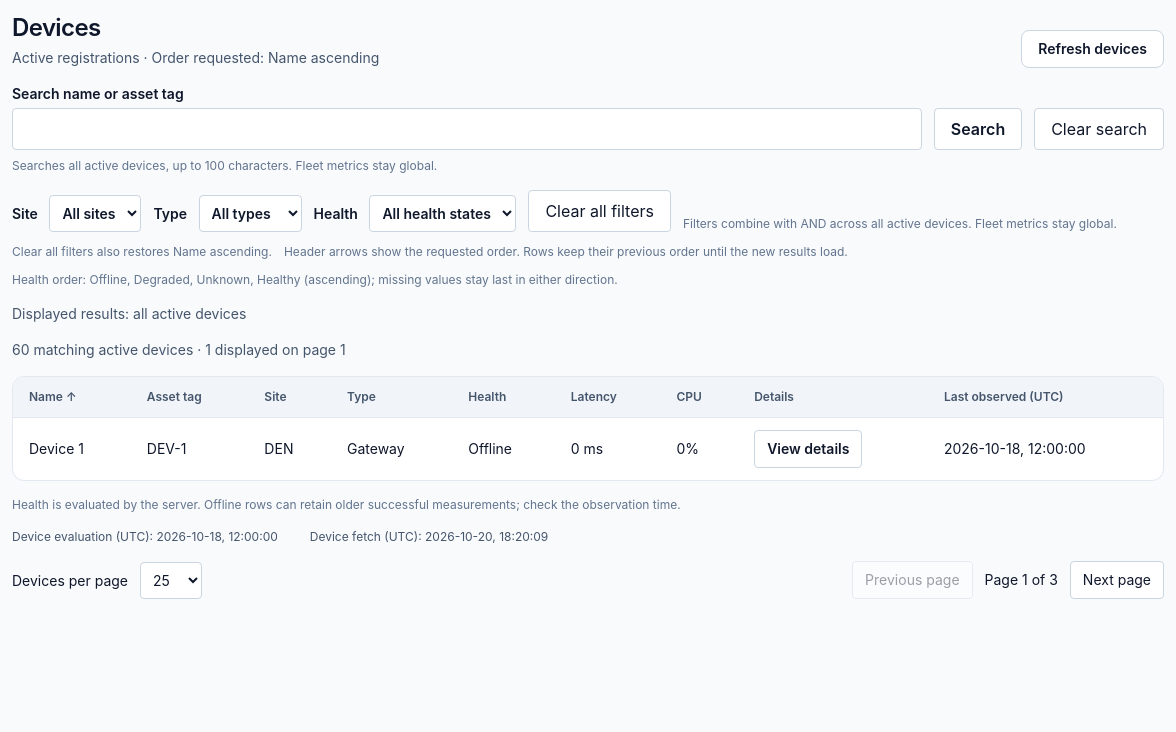
polls only the current page; the disabled prior-page observer never starts its own fetch
The width and height of the screenshot is (1176, 732).
Check: the text "Device 1" is shown, box [13,418,131,480]
Click the button "Next page". click: (1117,580)
box: [1070,561,1164,599]
Wait 5000 ms
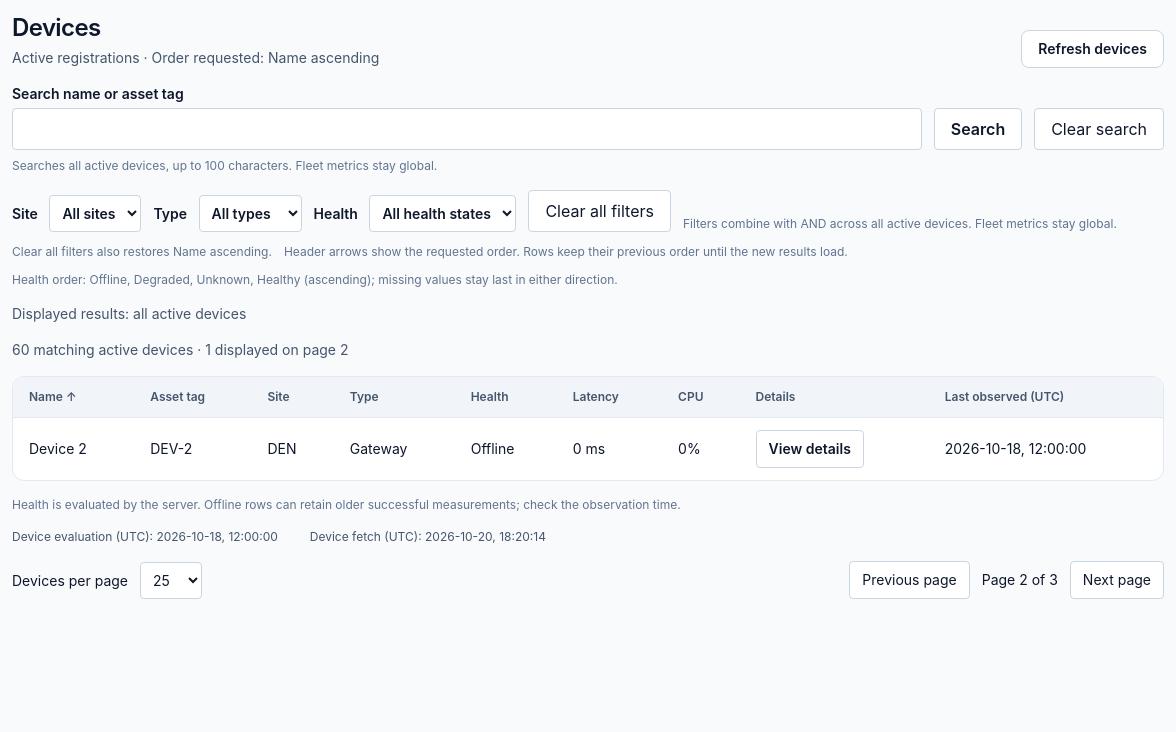
Check: the text "Device 2" is shown, box [13,418,134,480]
